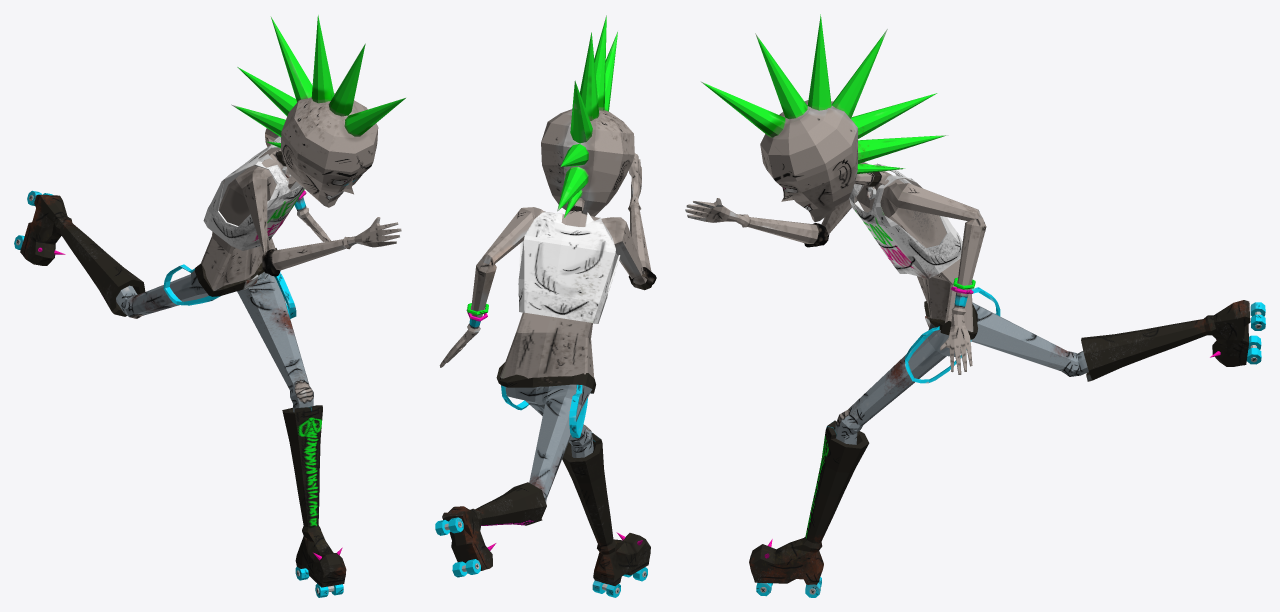
The model's file is punkAnimation_000002.obj.
The picture shows the model from 3 angles, left to right: view 1: azimuth 30°, elevation 25°; view 2: azimuth 150°, elevation 25°; view 3: azimuth 270°, elevation 25°; orthographic projection. The views are drawn at different scales.
Visible parts, largest first — view 1: Cube.004_Cube.003; view 2: Cube.004_Cube.003; view 3: Cube.004_Cube.003.
Part boxes in pixels (left/top/right/bottom): Cube.004_Cube.003: left=14, top=15, right=405, bottom=597; Cube.004_Cube.003: left=435, top=15, right=656, bottom=597; Cube.004_Cube.003: left=685, top=14, right=1265, bottom=597.
Size of the model in its own units: 2.22 by 6.61 by 5.95.
